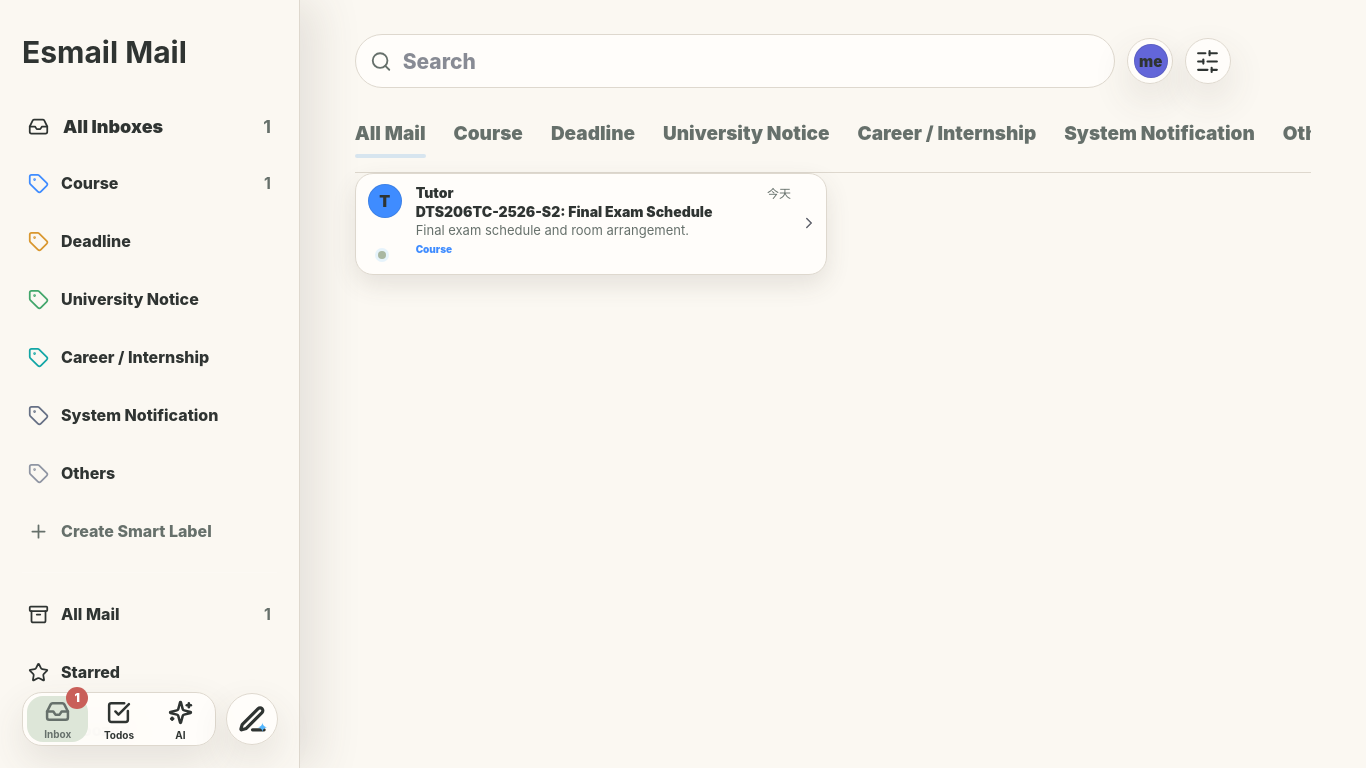
Test: App unread state › regenerates a cached summary when the cached language does not match the app language
The image size is (1366, 768).
Expected: the text "DTS206TC-2526-S2: Final Exam Schedule" is shown, [416,203,712,220]
Click the button "DTS206TC-2526-S2: Final Exam Schedule" at (591, 224), box [355,173,827,275]
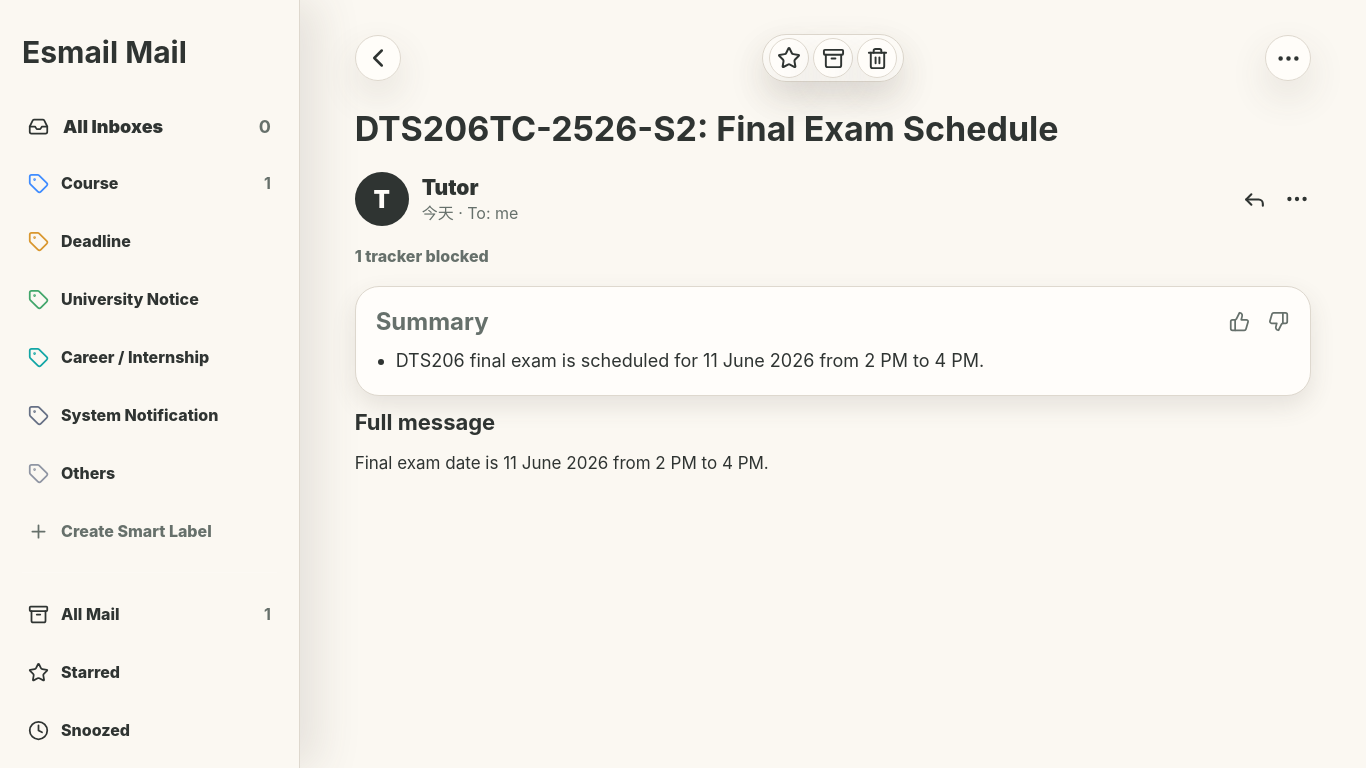
Result: the list item "DTS206 final exam is scheduled for 11 June 2026 from 2 PM to 4 PM." is shown at [396,350,984,371]
